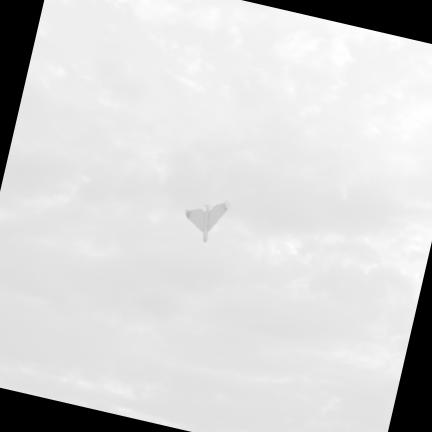Shahed: (186, 201, 230, 241)
